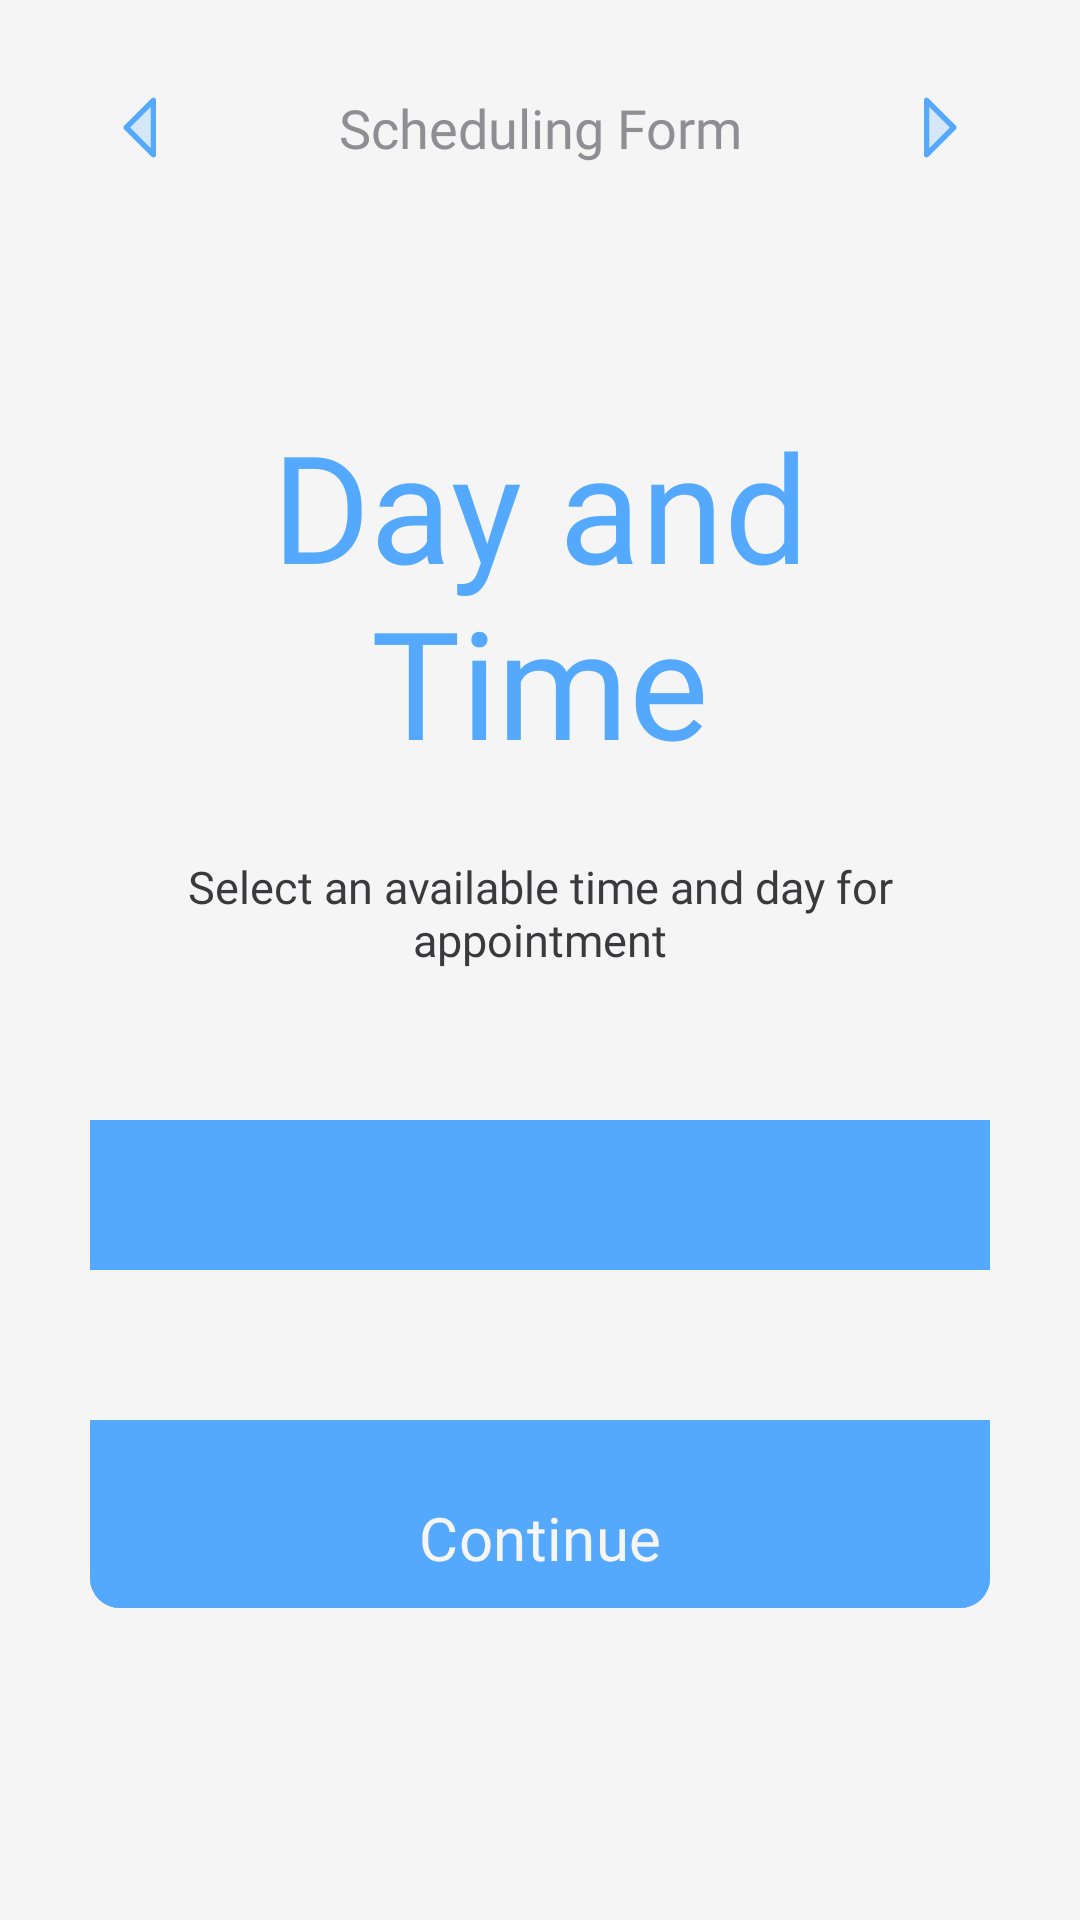

Where icons sit on this 1080 × 1920 app screen, as BBox(x1, y1, x2, y2):
arrow left: BBox(123, 97, 156, 158)
arrow right: BBox(924, 97, 957, 158)
